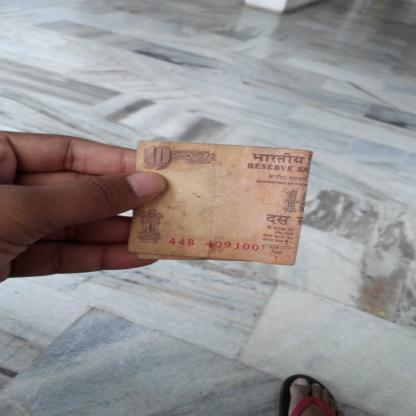Old10Front: (126, 140, 314, 268)
